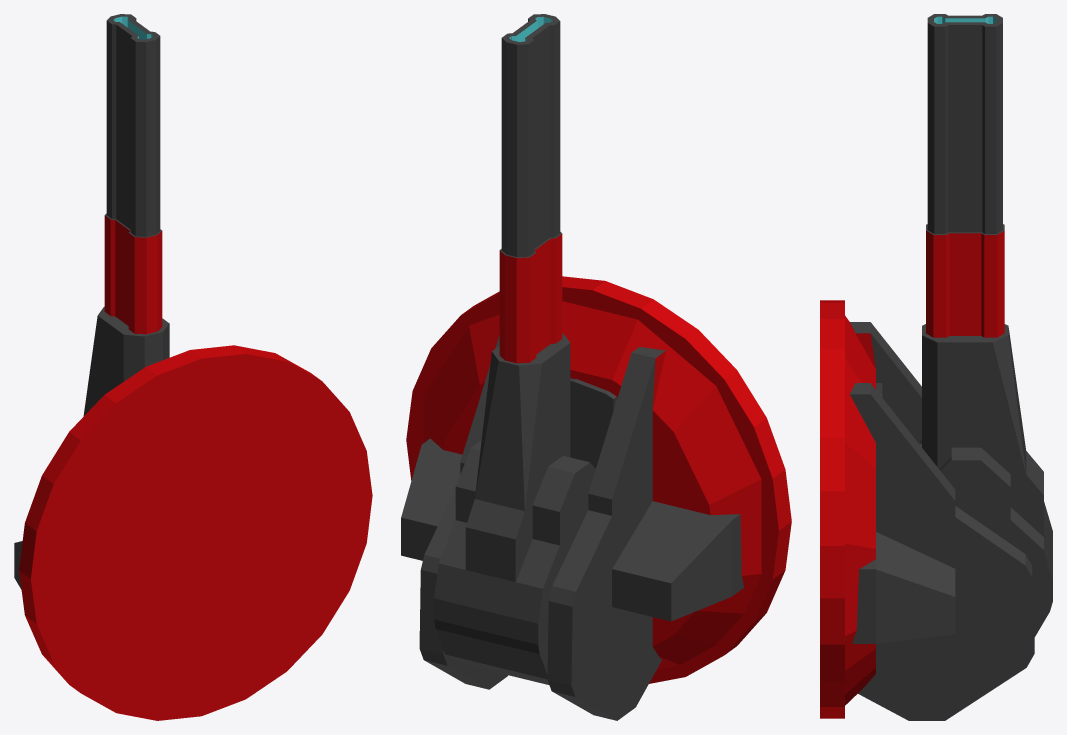
Rendered from RailTurret.fbx.
3 views of the same model, side by side, from view 1: azimuth 30°, elevation 25°; view 2: azimuth 150°, elevation 25°; view 3: azimuth 270°, elevation 25° (orthographic). The views are drawn at different scales.
Parts seen in each view (by area): view 1: TurretBase, TurretGun; view 2: TurretBase, TurretGun; view 3: TurretBase, TurretGun.
Part boxes in pixels (bbox=[...]): TurretBase: bbox=[14, 345, 372, 720]; TurretGun: bbox=[83, 14, 169, 415]; TurretBase: bbox=[401, 276, 791, 720]; TurretGun: bbox=[434, 14, 595, 684]; TurretBase: bbox=[820, 300, 1034, 720]; TurretGun: bbox=[920, 14, 1052, 636].
Size of the model in its own units: 2598 by 4636 by 1440.
